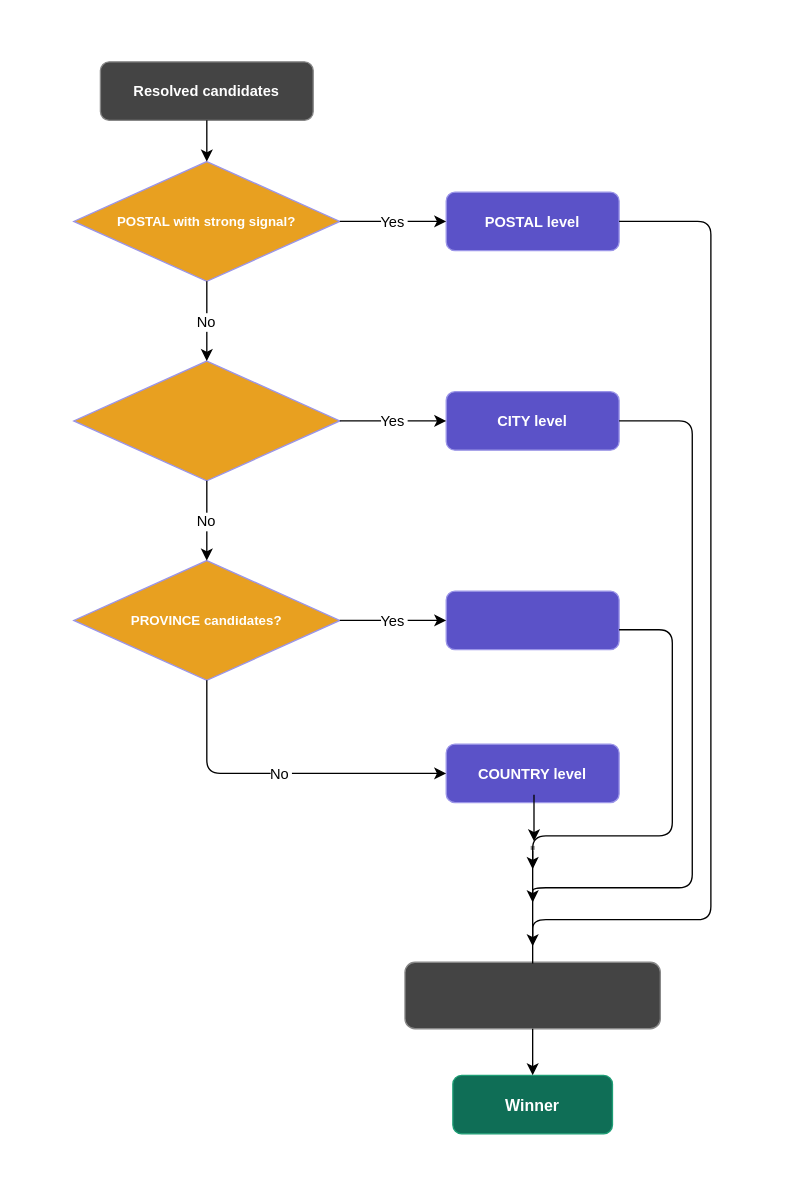
The diagram is 787 pixels wide and 1188 high, and some of its shapes have lost their labels. Here are the shapes that lost their labels. From the top down, the centre of each, then its label:
At pixel 206 420: "CITY candidates?".
At pixel 532 620: "PROVINCE level".
At pixel 532 995: "Sort within level title · frequency · position".
